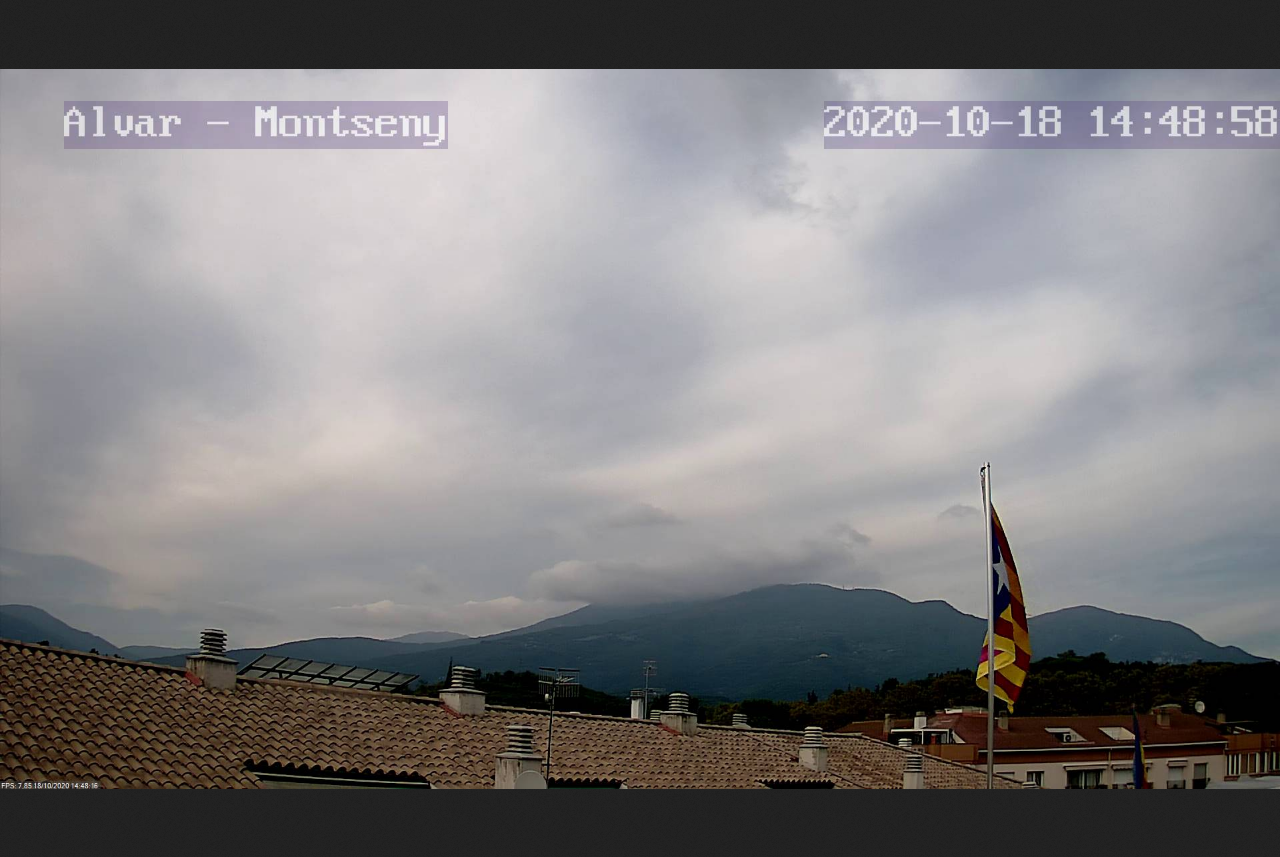no: (958, 458, 1037, 708)
